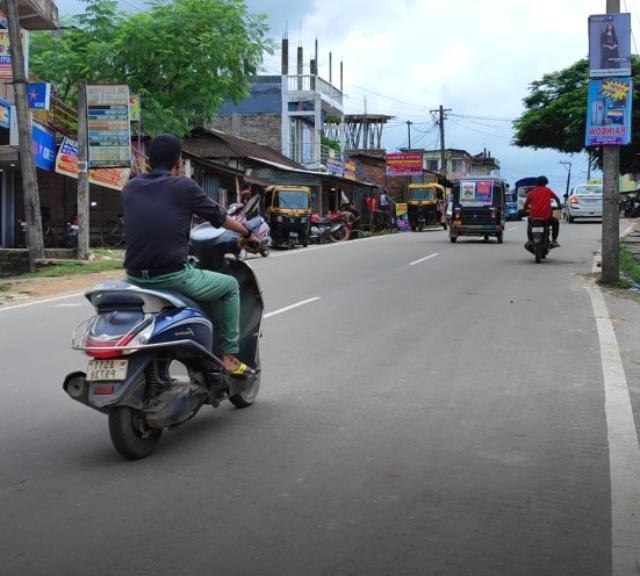licensePlate: (82, 358, 126, 384), (529, 226, 545, 233)
motorcycle: (61, 130, 261, 461), (519, 169, 567, 264)
withoutHelmet: (140, 135, 187, 177), (535, 173, 549, 190)
